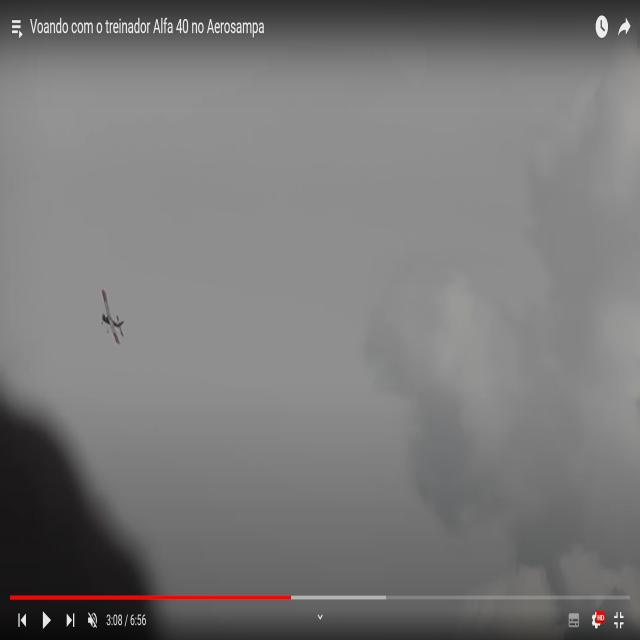iha: (36, 288, 61, 345)
